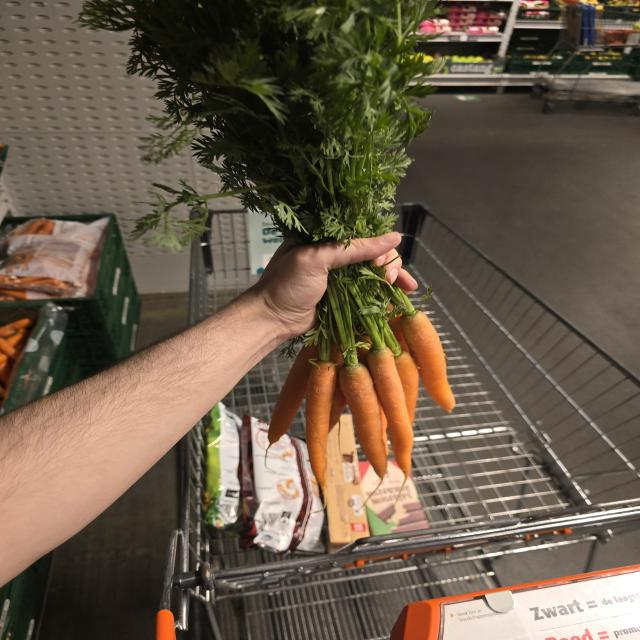Carrot: (368, 347, 417, 478), (339, 363, 388, 480), (400, 311, 455, 412), (268, 345, 318, 445), (306, 359, 337, 495)
